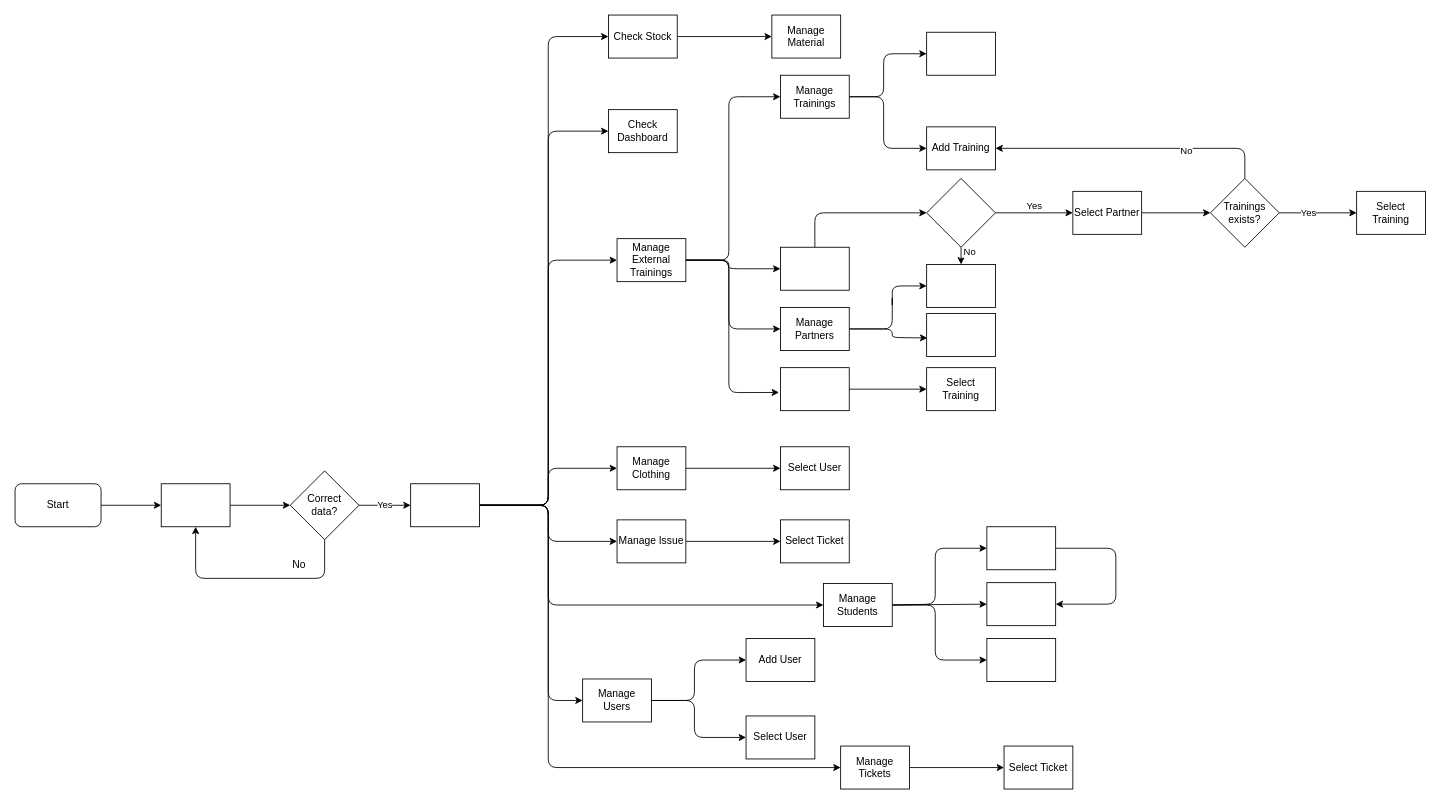
The diagram is 1441 pixels wide and 804 high, and some of its shapes have lost their labels. Here are the shapes that lost their labels. From the top down, the centre of each, then its label:
At point 960,53: "Edit Training".
At point 960,212: "Partner is in DB?".
At point 814,268: "Schedule Training".
At point 960,285: "Add Partner".
At point 960,334: "Edit Partner".
At point 814,389: "Assign Materials".
At point 195,505: "Login".
At point 444,505: "Show Menu".
At point 1021,548: "Add Class".
At point 1021,604: "Add Student".
At point 1021,660: "Edit Student".
